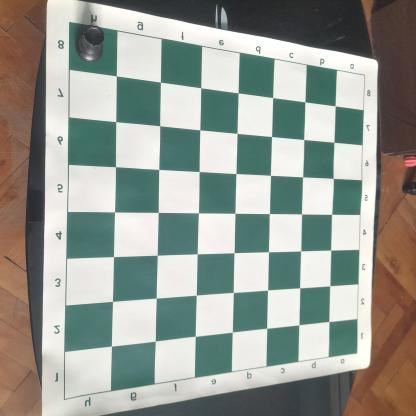black-rook: (72, 24, 107, 64)
